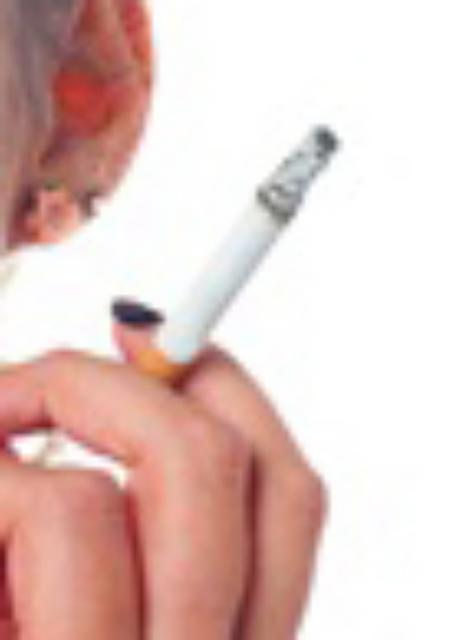Smoking: (104, 121, 346, 436)
